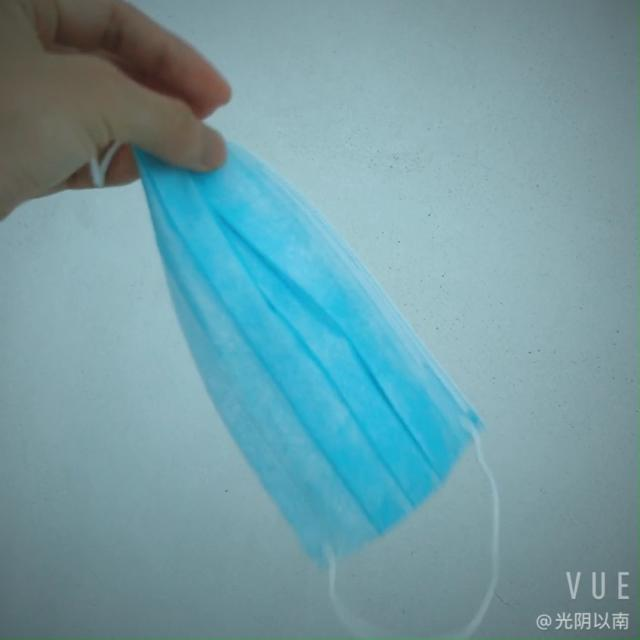non-organic waste: (111, 105, 502, 530)
